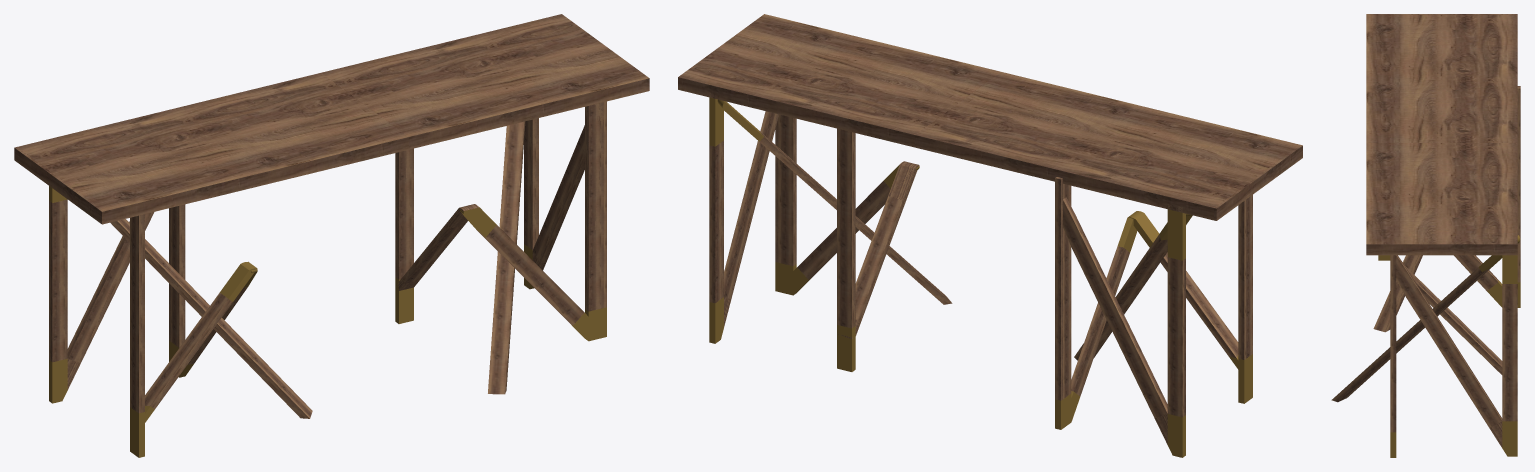
File: Credenza Garabato.fbx
The picture shows the model from 3 angles, left to right: view 1: azimuth 30°, elevation 25°; view 2: azimuth 150°, elevation 25°; view 3: azimuth 270°, elevation 25°; orthographic projection. The views are drawn at different scales.
Parts seen in each view (by area): view 1: Group18_3, Predeterminado, Group18, Group8, Group6, Group16, Group13, Group17, Group5, Group12, Group9, Group14 (+5 smaller); view 2: Group18_3, Predeterminado, Group18_6, Group17, Group5, Group14, Group6, Group9, Group13, Group4, Group8, Group16 (+6 smaller); view 3: Group18_3, Predeterminado, Group9, Group18_4, Group8, Group6, Group4, Group16, Group14, Group8_2, Group9_2.
Boxes of the visible parts, x1,y1,x2,y2 form: Group18_3: (14,14,649,211); Predeterminado: (49,118,588,403); Group18: (102,78,649,224); Group8: (488,121,525,394); Group6: (585,101,606,311); Group16: (110,219,312,418); Group13: (130,214,144,413); Group17: (67,212,154,363); Group5: (395,148,413,279); Group12: (145,292,232,408); Group9: (533,103,601,263); Group14: (169,204,185,347); Group18_3: (678,14,1302,208); Predeterminado: (709,92,1185,457); Group18_6: (678,77,1216,220); Group17: (1063,197,1167,418); Group5: (837,128,855,328); Group14: (1055,177,1071,400); Group6: (775,114,796,266); Group9: (724,111,778,298); Group13: (1238,195,1252,359); Group4: (855,196,905,321); Group8: (759,130,952,304); Group16: (1074,234,1167,360); Group18_3: (1366,14,1517,244); Predeterminado: (1454,255,1517,456); Group9: (1396,255,1502,427); Group18_4: (1366,244,1517,255); Group8: (1331,267,1490,402); Group6: (1390,255,1396,432); Group4: (1418,280,1500,365); Group16: (1373,255,1422,332); Group14: (1517,86,1520,282); Group8_2: (1478,235,1520,271); Group9_2: (1489,421,1502,447).
Size of the model in its own units: 1.8 by 0.6248 by 0.8228.
Materials: 3 (2 with a texture image).
